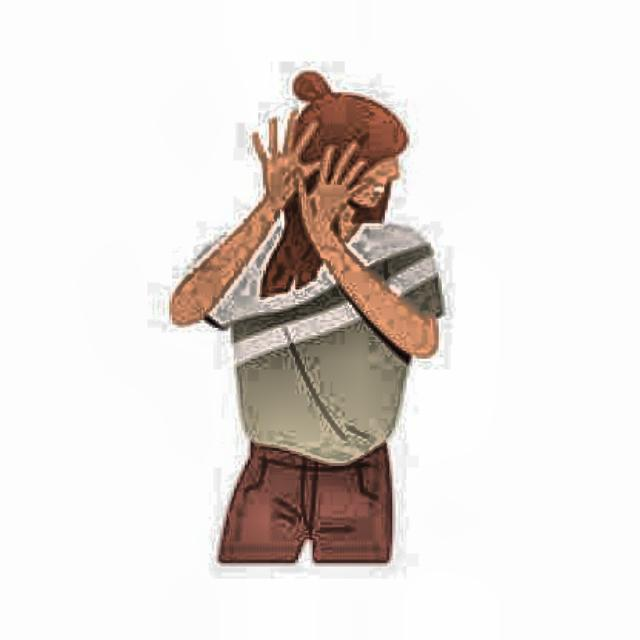disgust: (210, 63, 439, 270)
